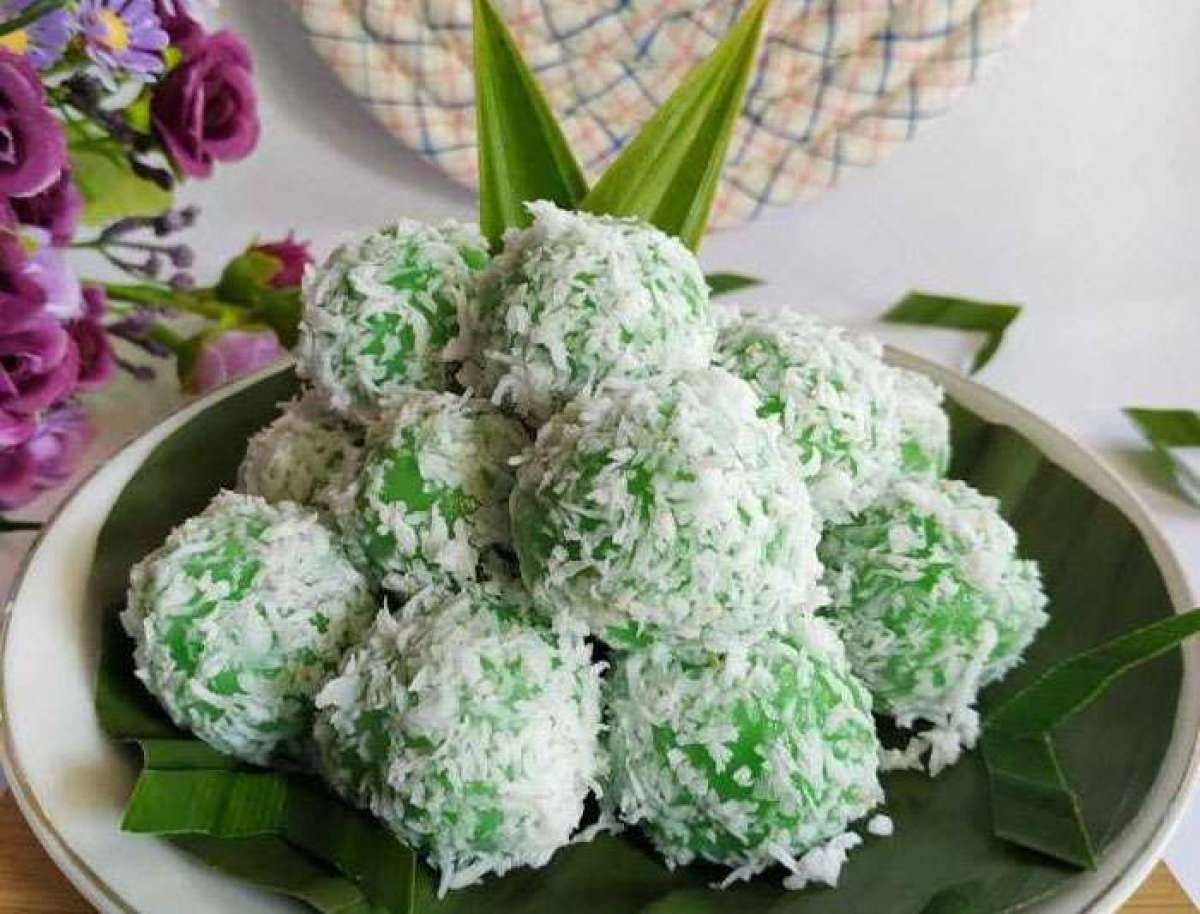klepon: (499, 353, 837, 657), (57, 479, 365, 756), (332, 592, 636, 871)
